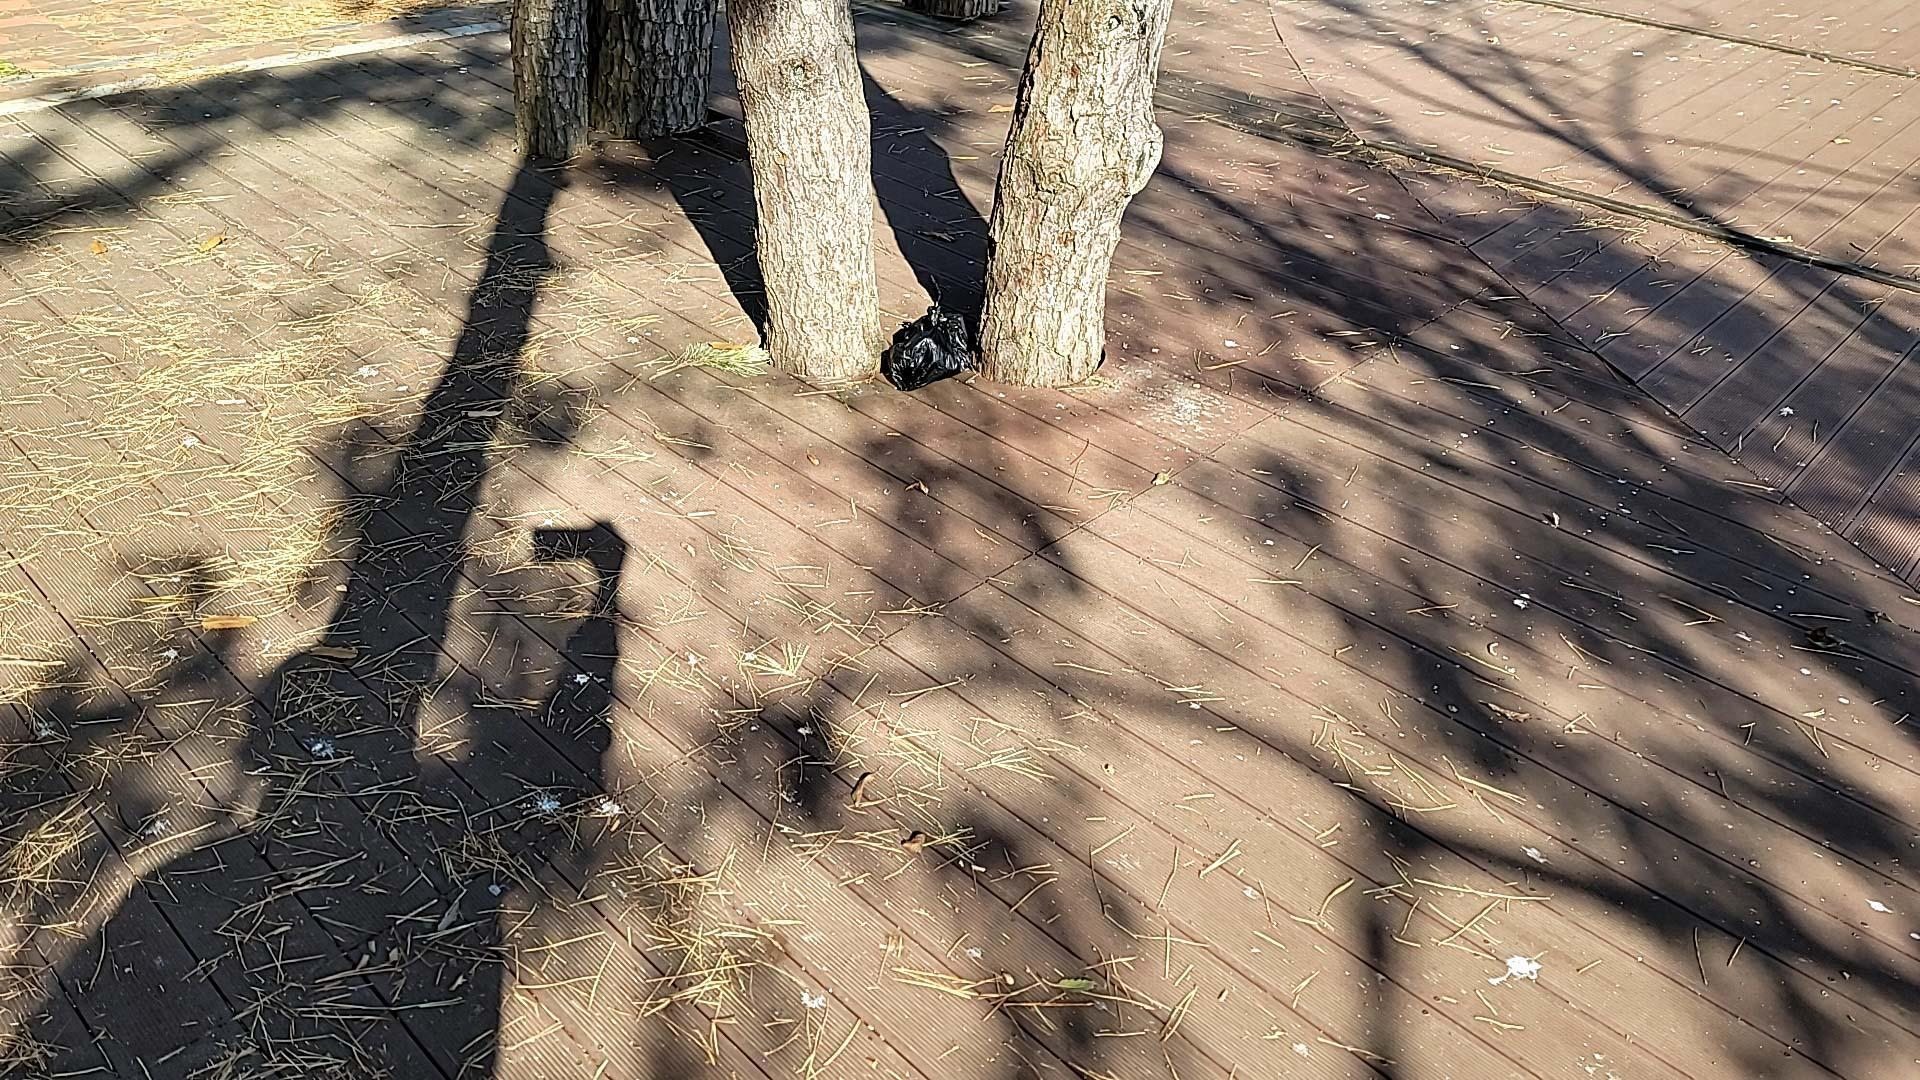black_bag: (876, 303, 980, 393)
